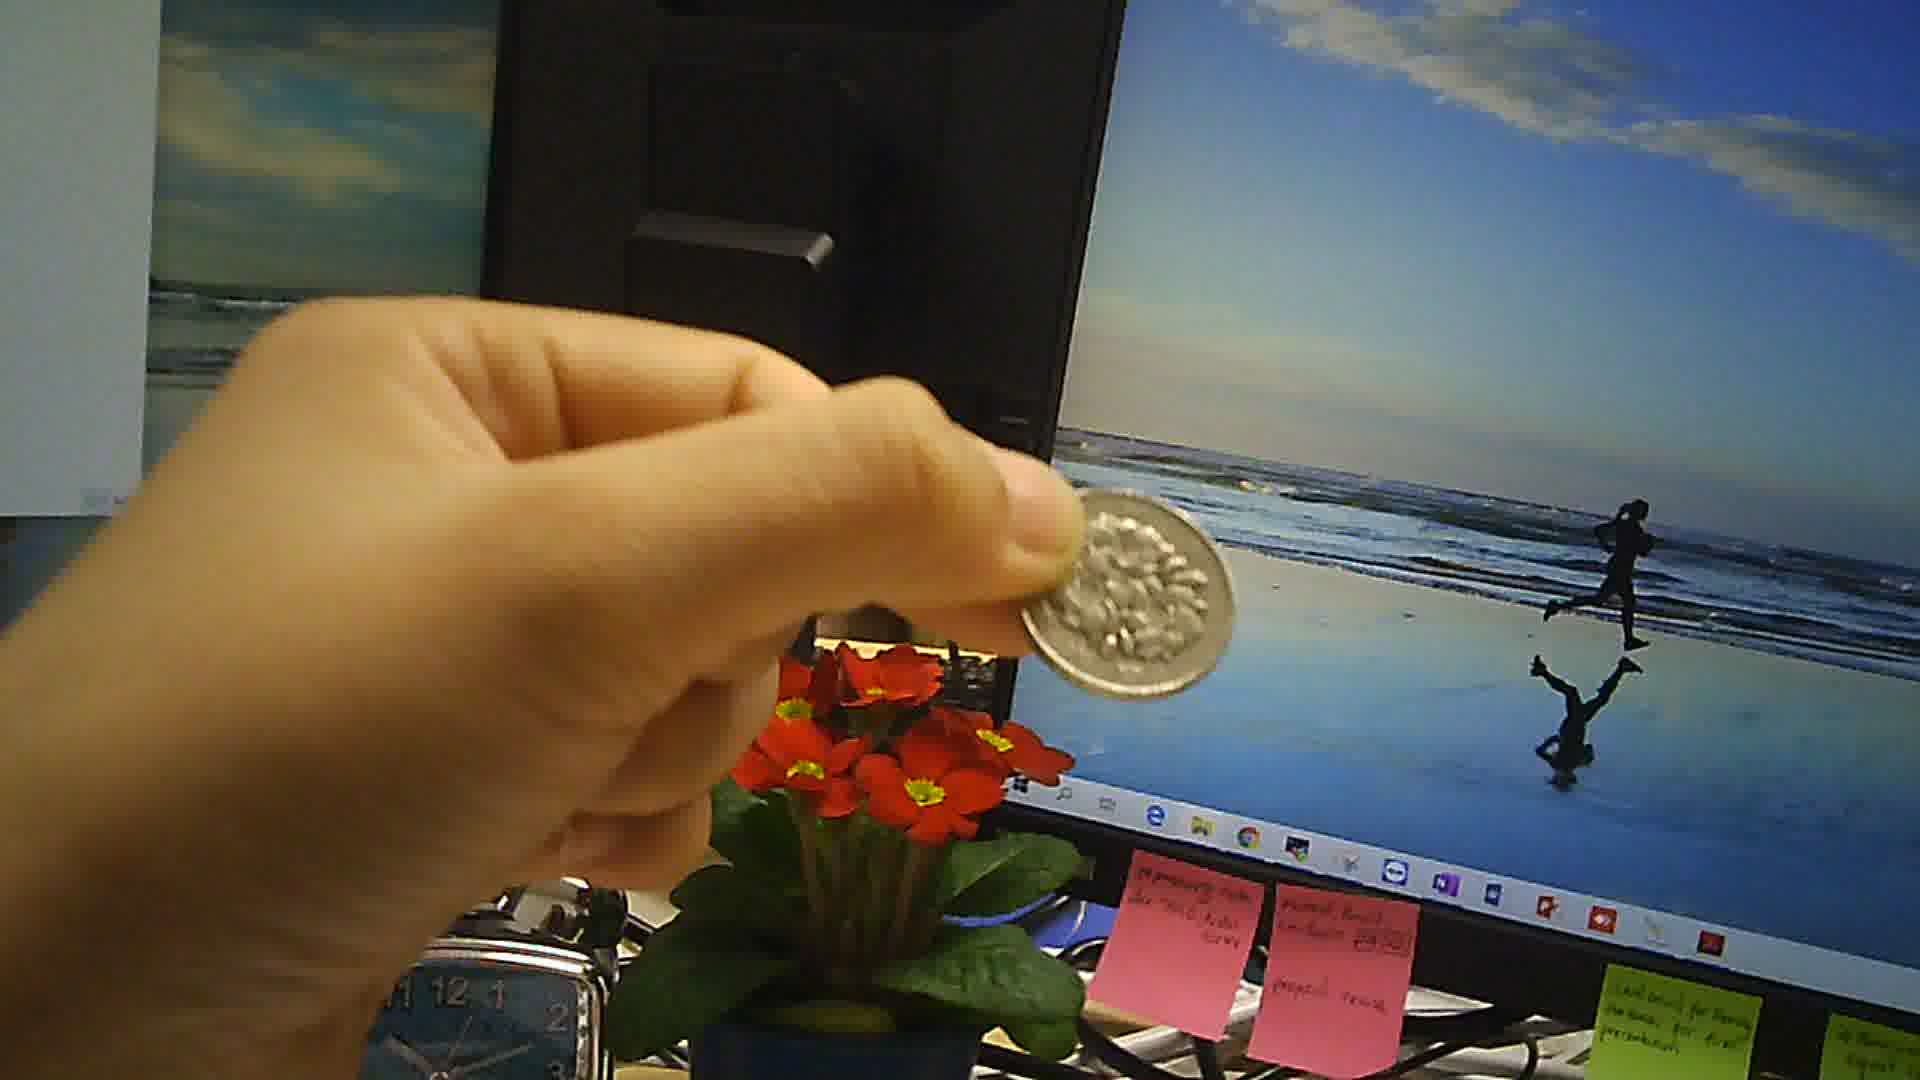100 Yen: (1011, 477, 1247, 705)
